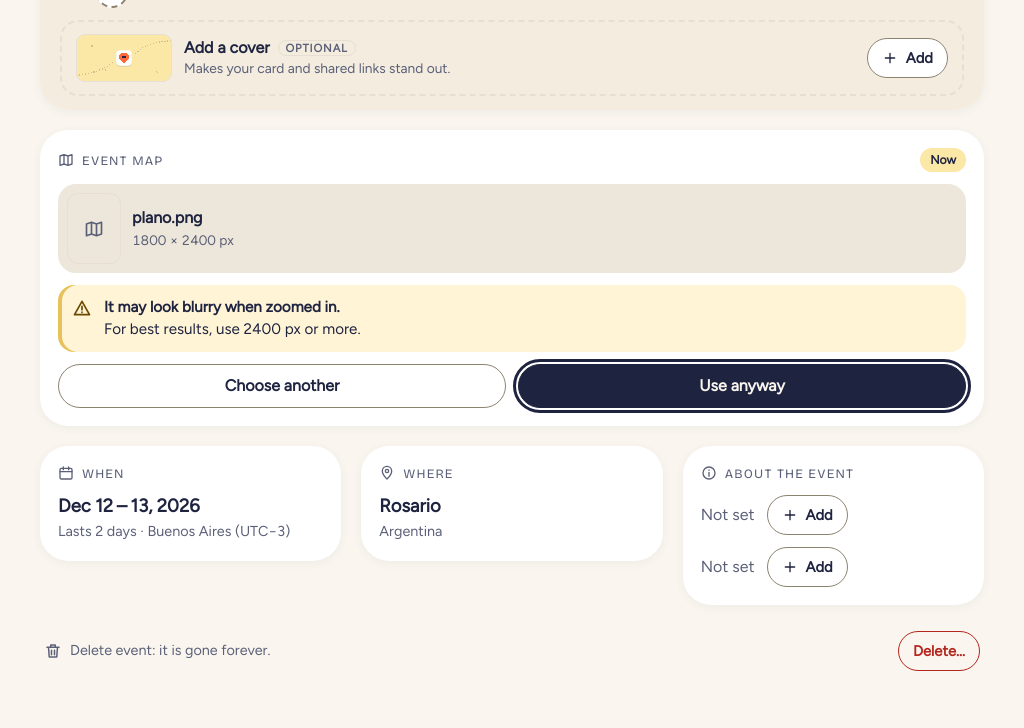
map upload card › warns about a small image, uploads it after Use anyway and then shows the map and Done
Earlier steps of the test are not shown.
(page scrolled)
Expected: the text "It may look blurry when zoomed in." is shown, [104,297,361,319]
Click the button "Use anyway" at (742, 386), box [518,364,966,408]
(page scrolled)
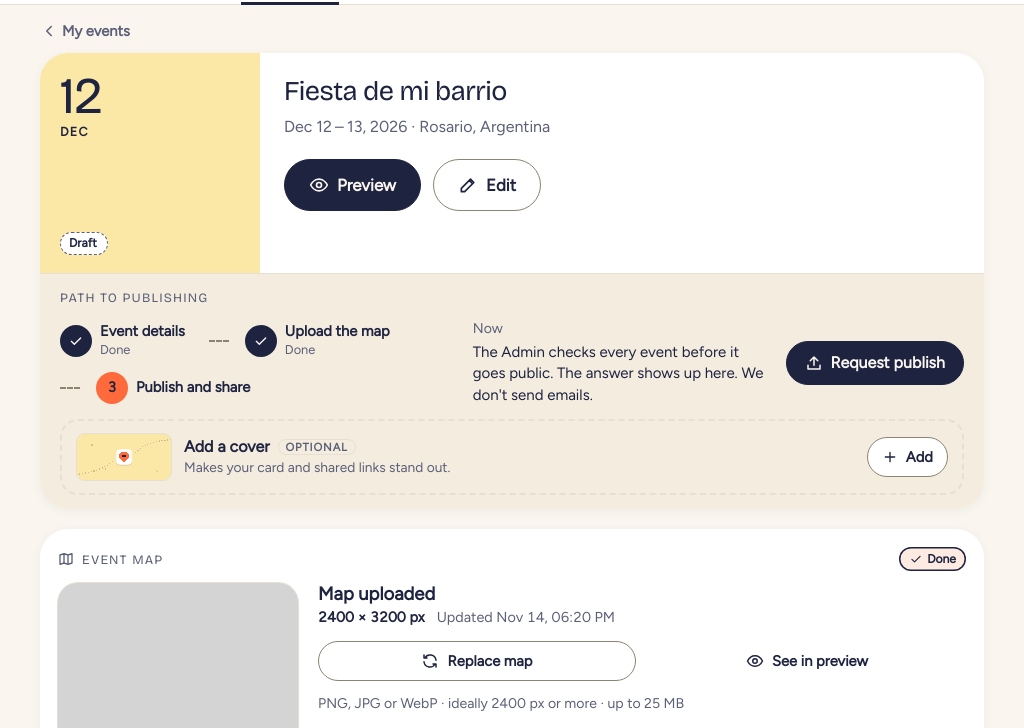
Now the text "Map uploaded" is shown, box [318,583,435,605]
Now the text "Done" below "Upload the map" is shown, box [285,342,315,357]
